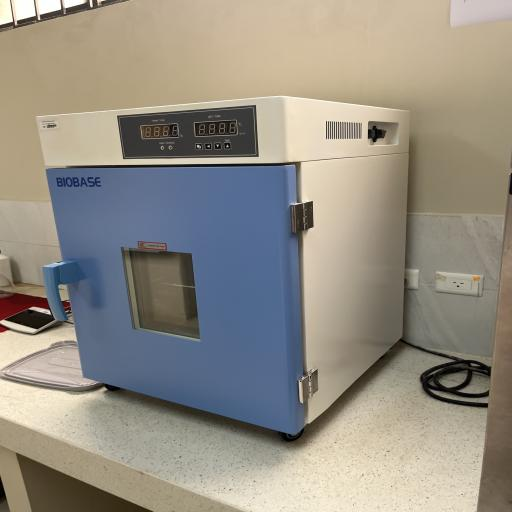Horno_Secado_Biobase: (30, 90, 417, 451)
